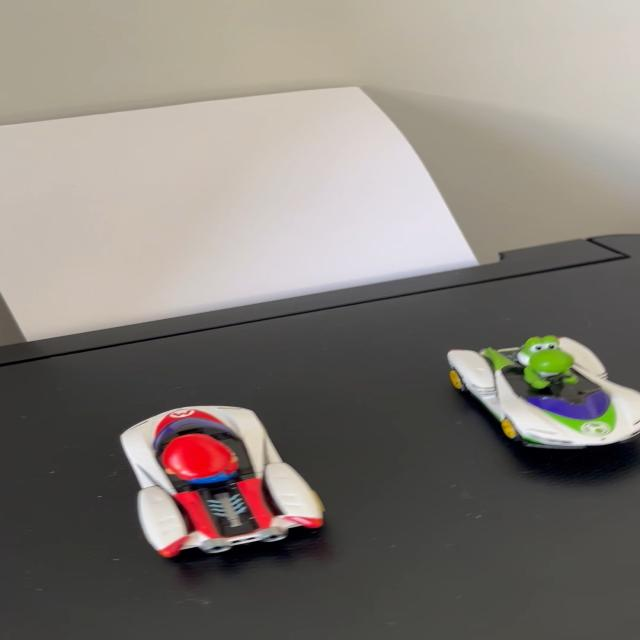mario: (109, 399, 351, 566)
yoshi: (430, 321, 640, 456)
